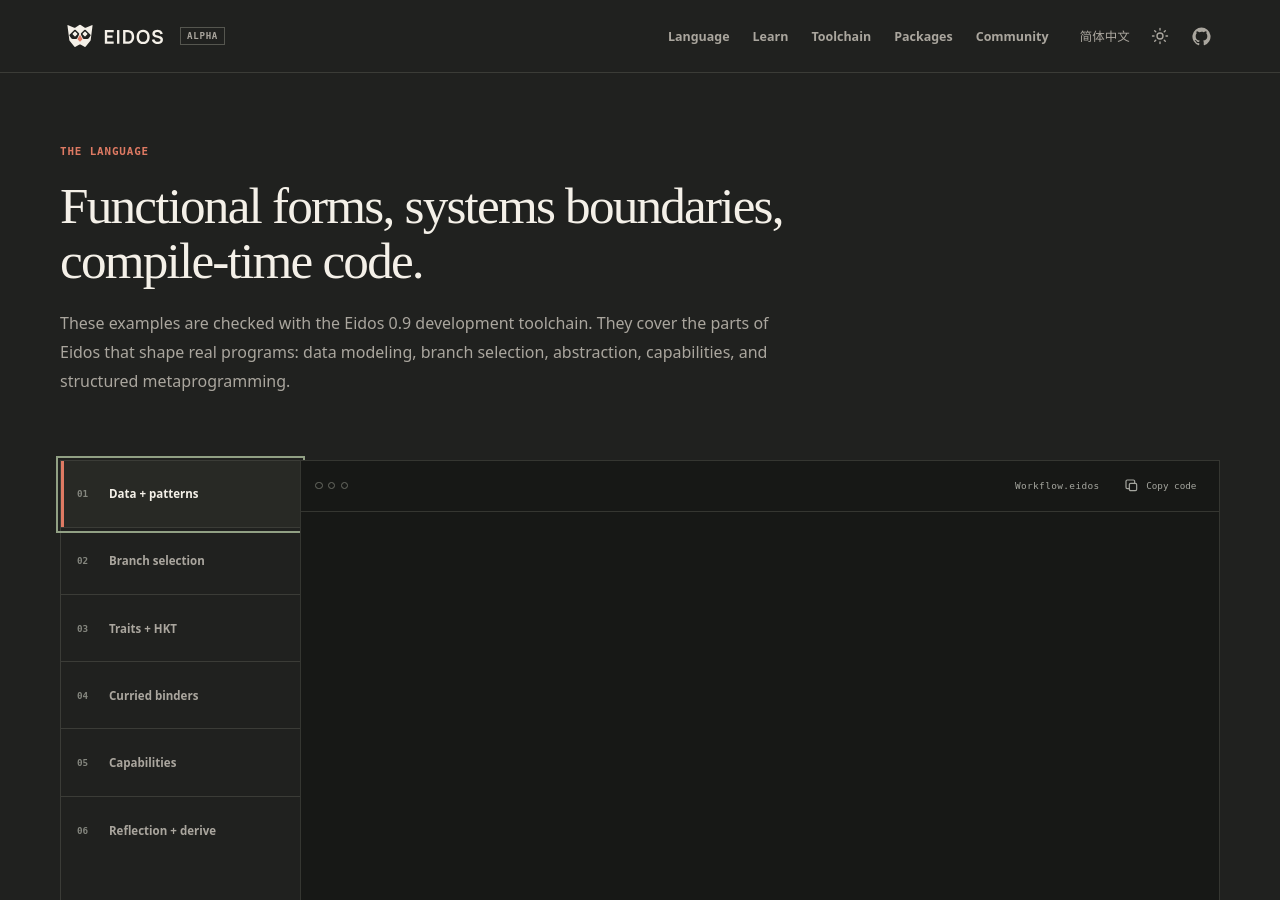
it: Eidos website › supports keyboard code-tab navigation and copy feedback
This screenshot has width=1280, height=900.
(page scrolled)
Press Arrowright Arrowright
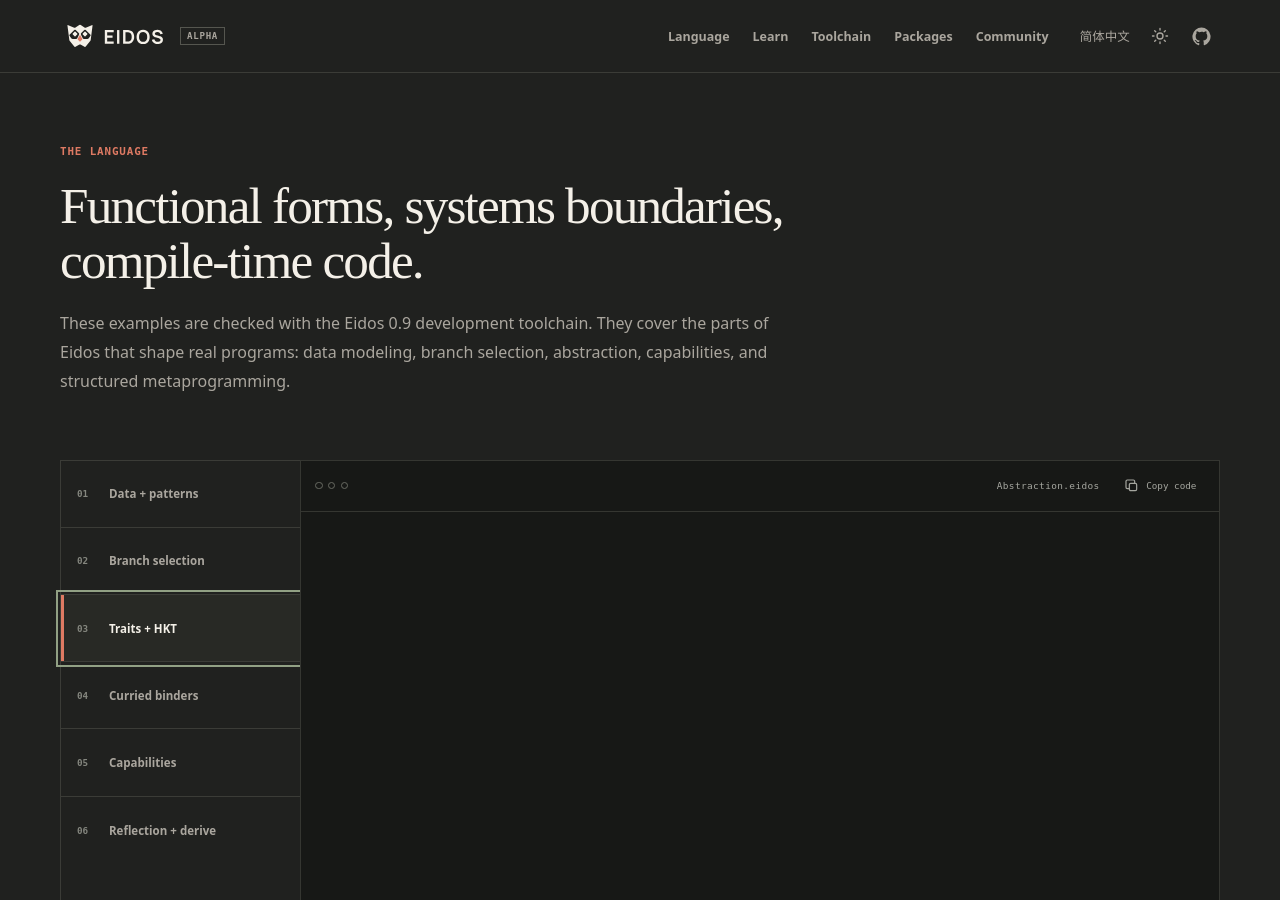
Result: the text "Abstraction.eidos" is shown at [997,480,1100,491]
Click the button "Copy code".
click(1160, 486)  # box [1116,471,1205,500]
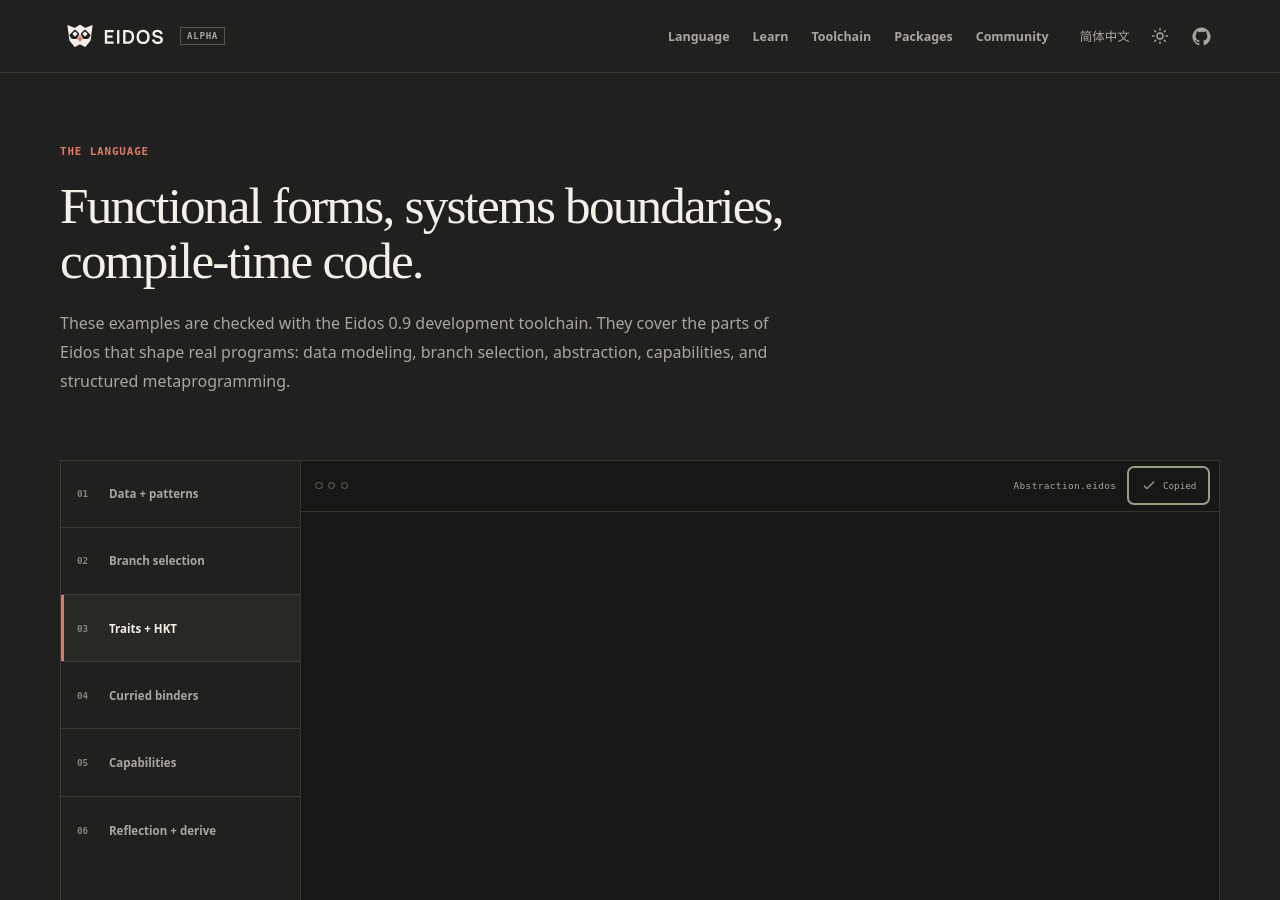
Result: the button "Copied" is shown at [1132,471,1205,500]
